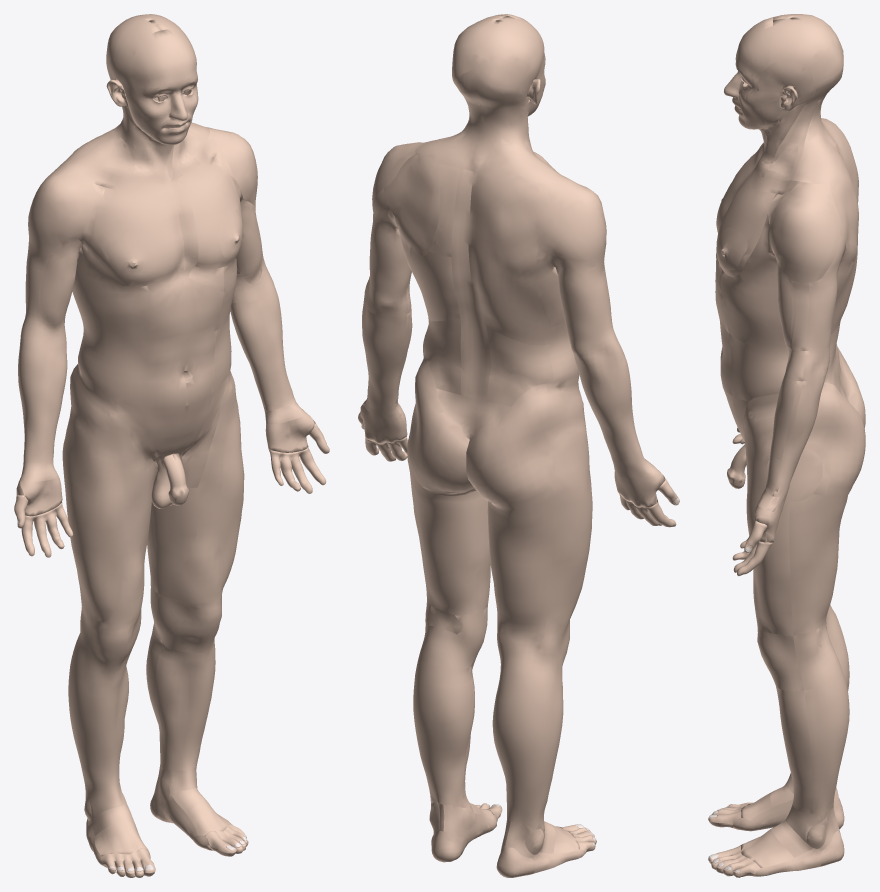
File: peau-hd.glb
3 renders of one model, left to right at view 1: azimuth 30°, elevation 25°; view 2: azimuth 150°, elevation 25°; view 3: azimuth 270°, elevation 25°, orthographic.
Visible parts, largest first — view 1: Peau; view 2: Peau; view 3: Peau.
Boxes of the visible parts, <box> form: Peau: <box>14,14,329,877</box>; Peau: <box>358,14,679,877</box>; Peau: <box>708,14,865,877</box>.
Size of the model in its own units: 0.68 by 1.71 by 0.294.
